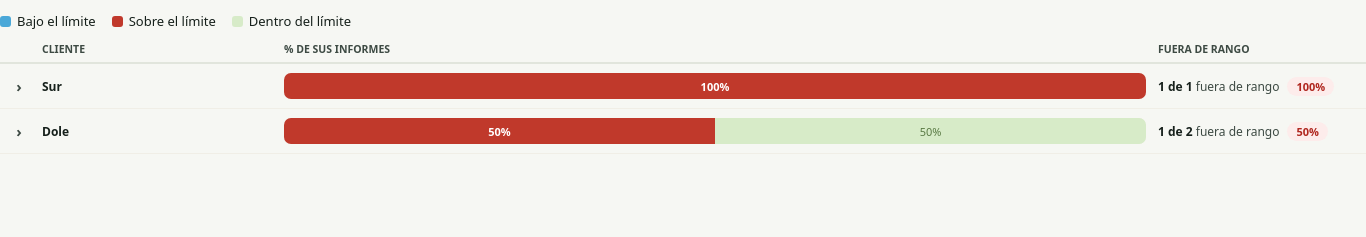
Test case: ResultadosPorCliente › el clic en el nombre despliega las semanas de ese cliente y al abrir otro se cierra el anterior
This screenshot has width=1366, height=237.
Expected: the text "Semana 41" is not shown
What coordinates should you click on to do the following:
click the button "› Dole"
I would click on:
 (19, 131)
Its box is [8,121,272,141].
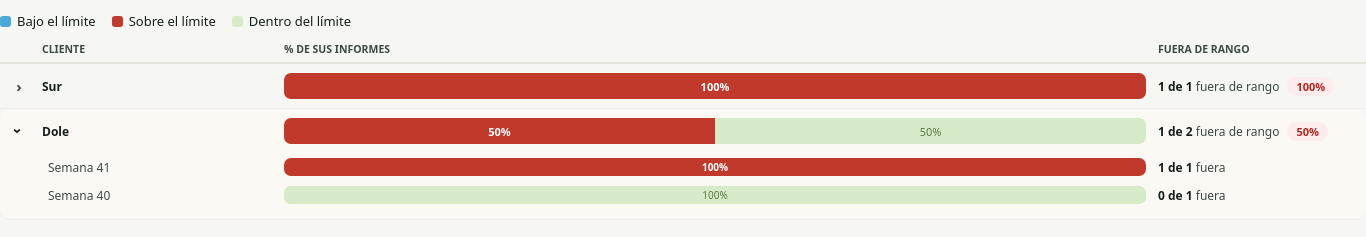
Now the text "Semana 41" is shown, box [48,158,110,176]
Now the text "Semana 40" is shown, box [48,186,110,204]
What coordinates should you click on to do the following:
click the button "› Sur"
I would click on:
 (19, 86)
Its box is [8,76,272,96].
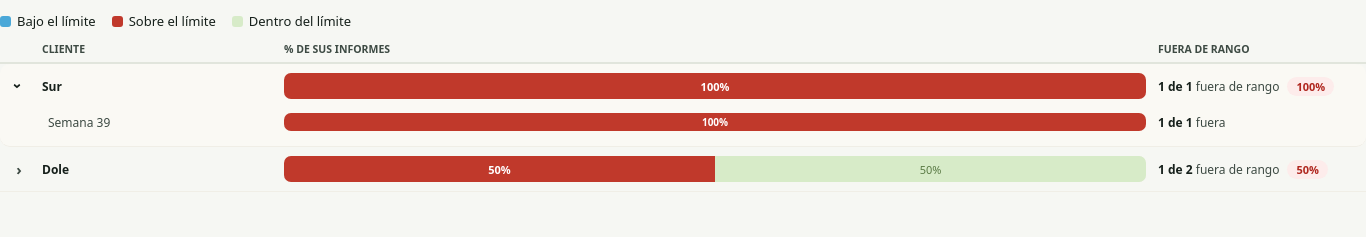
Now the text "Semana 41" is gone
Now the text "Semana 39" is shown, box [48,114,110,130]
